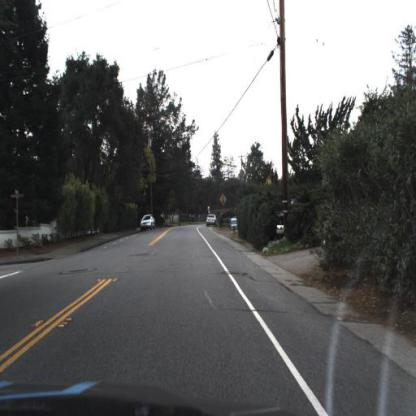car: (141, 214, 157, 232), (207, 214, 219, 227)
